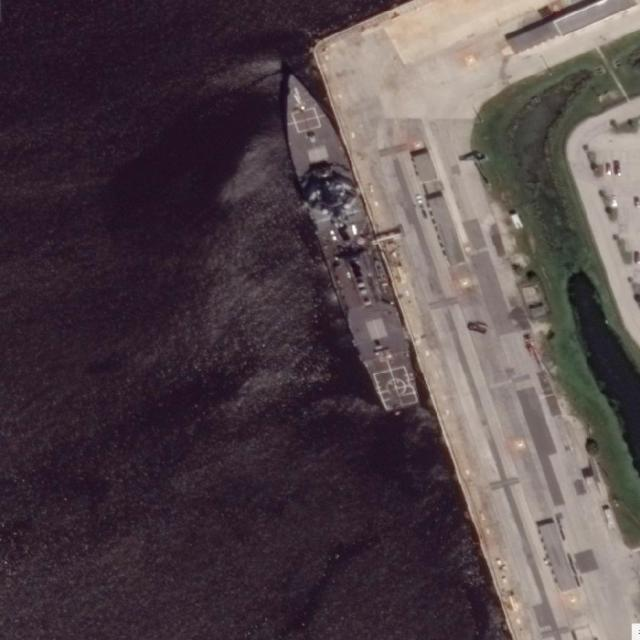Destroyer: (267, 63, 428, 416)
